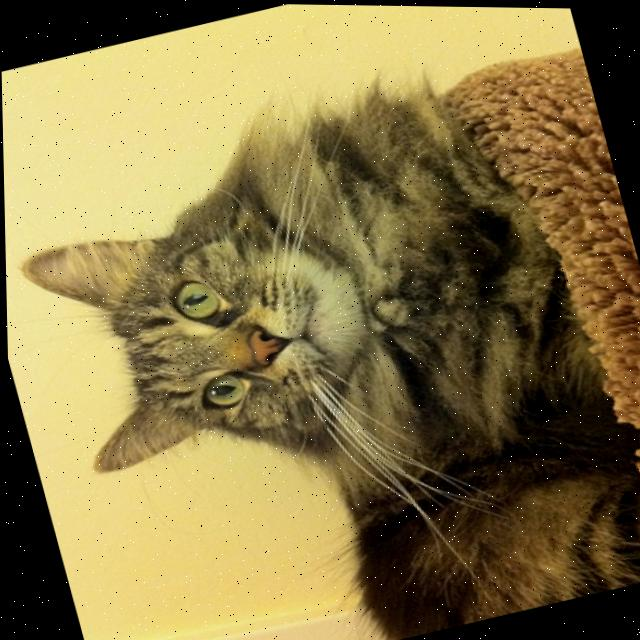Maine Coon: (0, 28, 640, 640)
